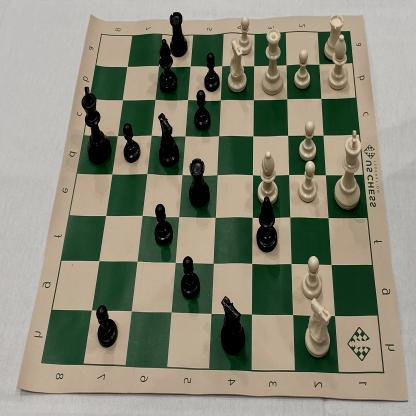black-bishop: (254, 195, 280, 257), (158, 35, 178, 97)
black-king: (79, 82, 114, 167)
black-knight: (218, 294, 248, 358), (155, 108, 180, 172)
black-pawn: (94, 301, 119, 352), (178, 250, 202, 301), (153, 198, 174, 252), (119, 121, 142, 168), (202, 50, 223, 93), (192, 88, 212, 132)
black-rook: (186, 152, 212, 210), (168, 5, 191, 59)
white-bishop: (254, 146, 282, 208), (325, 32, 352, 93)
white-king: (330, 126, 365, 214)
white-knight: (302, 296, 335, 362), (225, 37, 249, 95)
white-pawn: (296, 156, 320, 206), (300, 252, 324, 300), (296, 116, 320, 163), (233, 12, 257, 56), (292, 47, 314, 90)
white-queen: (259, 26, 287, 100)
white-rook: (319, 10, 348, 64)
